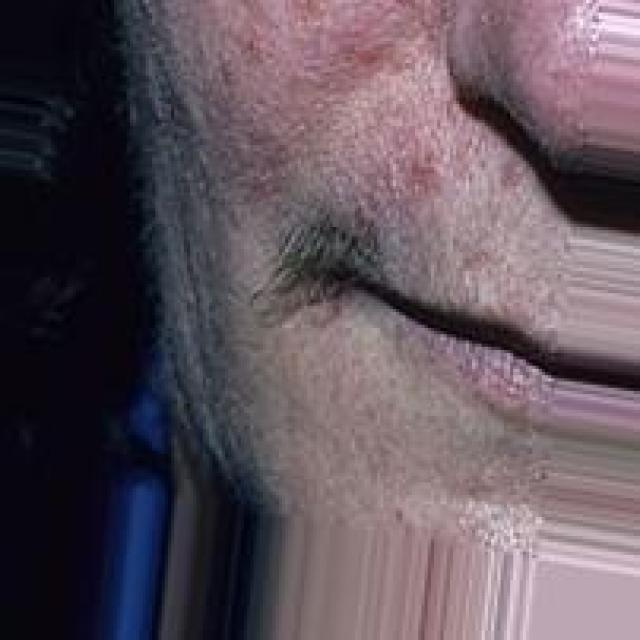Rosacea: (207, 0, 442, 199), (497, 0, 580, 132)
